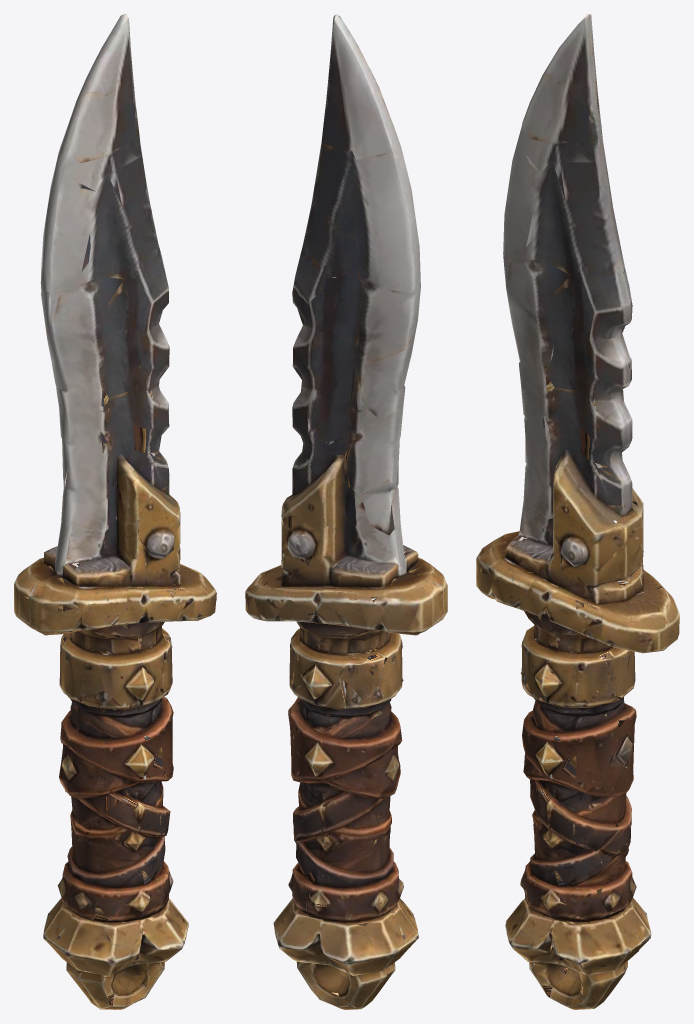
The model's file is equip_sera_dagger.glb.
3 renders of one model, left to right at view 1: azimuth 30°, elevation 25°; view 2: azimuth 150°, elevation 25°; view 3: azimuth 330°, elevation 25°, orthographic.
Parts seen in each view (by area): view 1: Mesh_0; view 2: Mesh_0; view 3: Mesh_0.
Boxes of the visible parts, x1,y1,x2,y2 form: Mesh_0: [14, 14, 216, 1009]; Mesh_0: [245, 14, 447, 1009]; Mesh_0: [476, 14, 679, 1009].
Bounding box in the file's own units: 0.3695 × 1.9 × 0.2394.
Materials: 1 (1 with a texture image).
